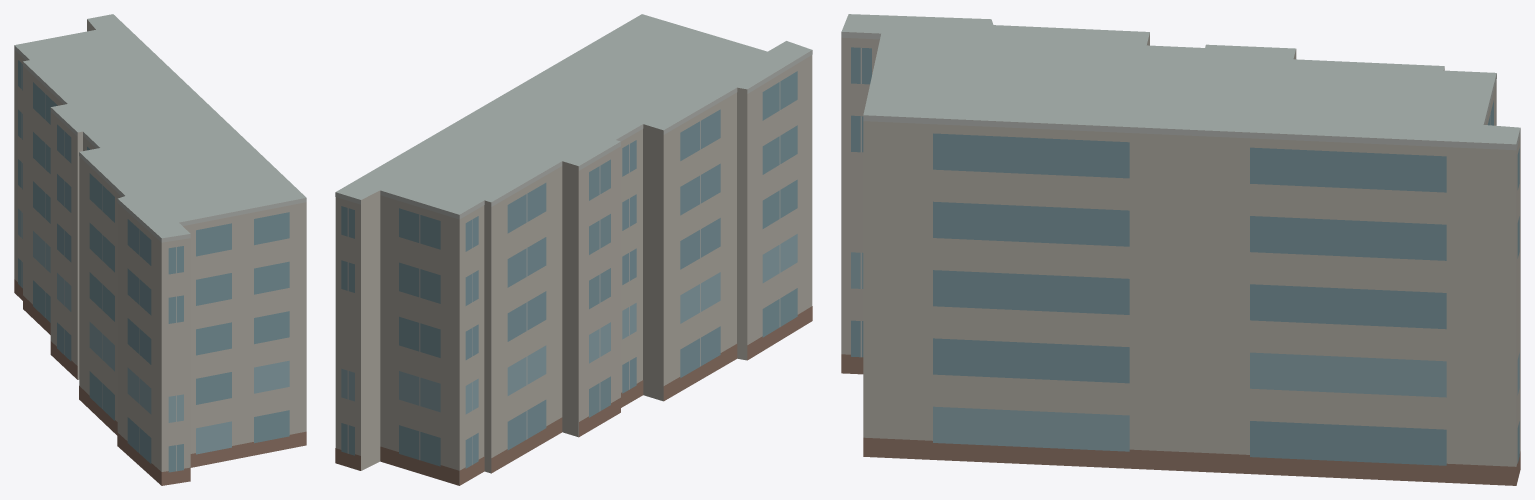
File: survey-upis-32981864.glb
The picture shows the model from 3 angles, left to right: view 1: azimuth 30°, elevation 25°; view 2: azimuth 150°, elevation 25°; view 3: azimuth 270°, elevation 25°; orthographic projection. The views are drawn at different scales.
Visible parts, largest first — view 1: survey-upis-32981864.tmp; view 2: survey-upis-32981864.tmp; view 3: survey-upis-32981864.tmp.
Part boxes in pixels (left/top/right/bottom): survey-upis-32981864.tmp: left=14, top=14, right=306, bottom=485; survey-upis-32981864.tmp: left=335, top=14, right=812, bottom=485; survey-upis-32981864.tmp: left=841, top=14, right=1520, bottom=485.
Size of the model in its own units: 11.47 by 14 by 25.24.
